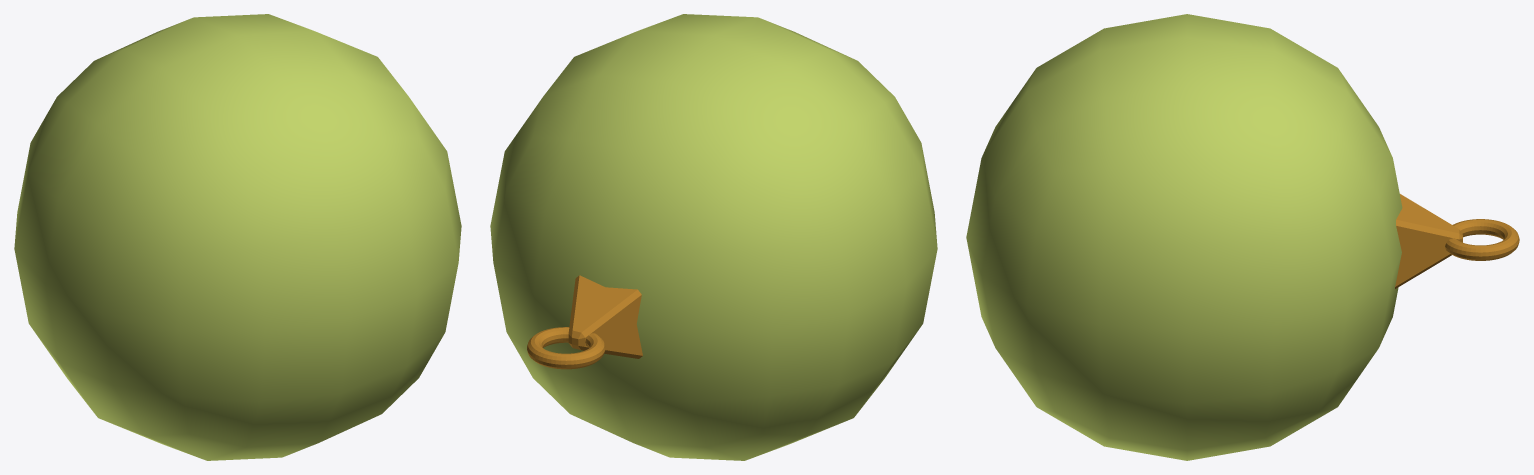
The model's file is Ball_2.fbx.
3 views of the same model, side by side, from view 1: azimuth 30°, elevation 25°; view 2: azimuth 150°, elevation 25°; view 3: azimuth 270°, elevation 25° (orthographic).
Parts seen in each view (by area): view 1: Cube.004; view 2: Cube.004; view 3: Cube.004.
Part boxes in pixels (x1,y1,x2,y2): Cube.004: (14, 14, 461, 460); Cube.004: (490, 14, 937, 460); Cube.004: (966, 14, 1519, 460).
Size of the model in its own units: 0.2933 by 0.2933 by 0.3674.
